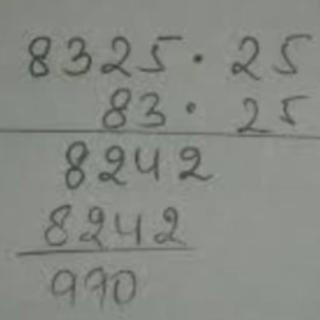.: (182, 101, 196, 115), (191, 51, 204, 64)
0: (113, 267, 138, 307)
2: (100, 34, 133, 80), (230, 35, 262, 82), (235, 97, 274, 135), (153, 206, 191, 245), (177, 146, 213, 183), (97, 145, 127, 189), (78, 205, 107, 248)
3: (62, 35, 93, 79), (138, 91, 167, 130)
4: (112, 209, 146, 246), (132, 145, 163, 182)
5: (135, 34, 184, 74), (271, 33, 315, 76), (279, 95, 310, 126)
8: (63, 140, 90, 191), (101, 87, 133, 130), (25, 34, 55, 78), (43, 204, 73, 247)
9: (50, 267, 76, 309), (83, 267, 107, 311)
